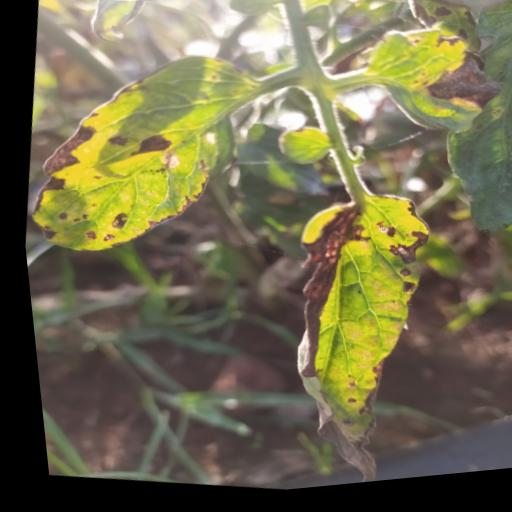Early Blight: (4, 26, 281, 285), (241, 180, 454, 495), (347, 17, 512, 156)
